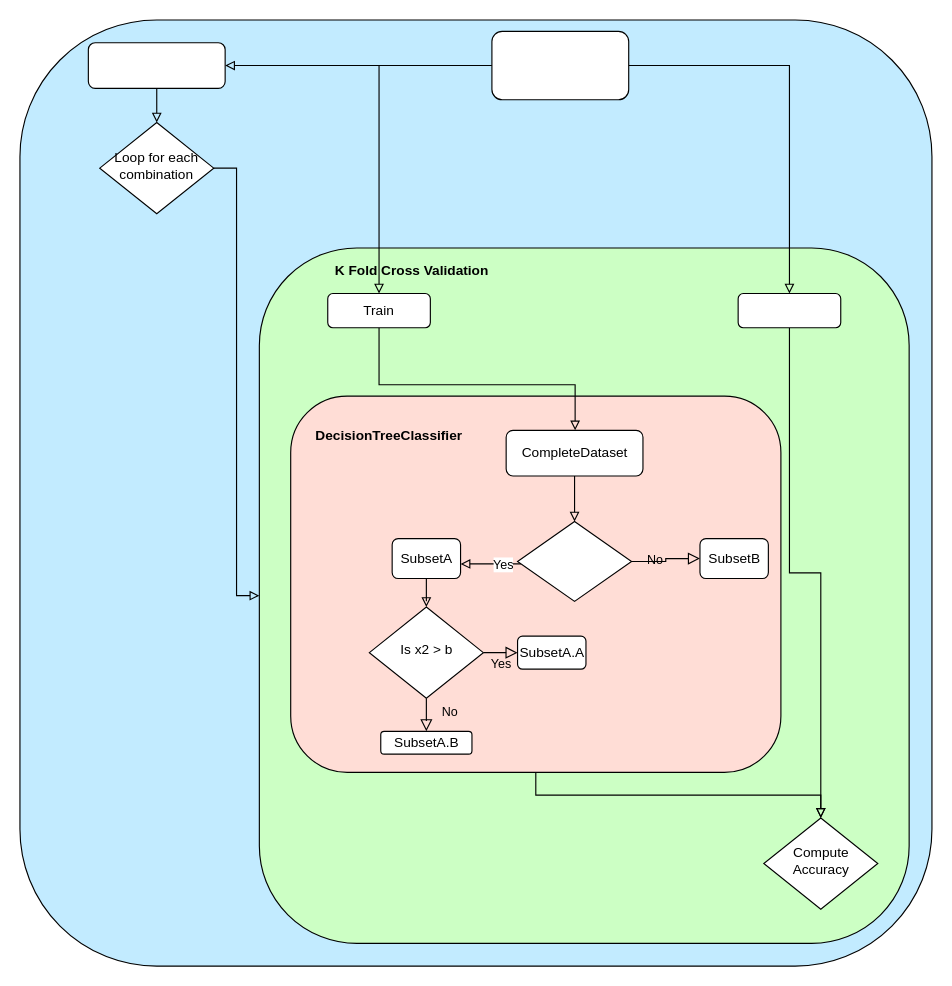
This 952x986 diagram has some shape labels left out. Each missing label, with the box of its shape:
Dataset: (491, 30, 629, 100)
Is x1 > a: (516, 520, 632, 601)
Predictor Attributes: (87, 42, 225, 88)
Test: (737, 292, 841, 328)
